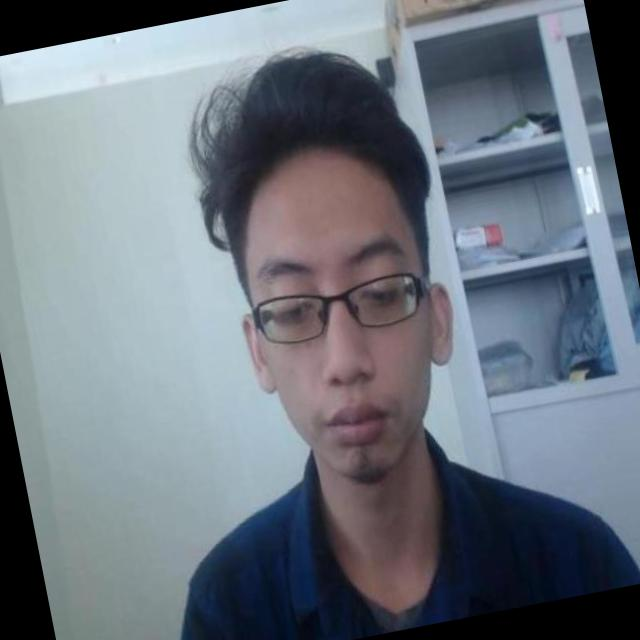bareface: (138, 56, 498, 508)
